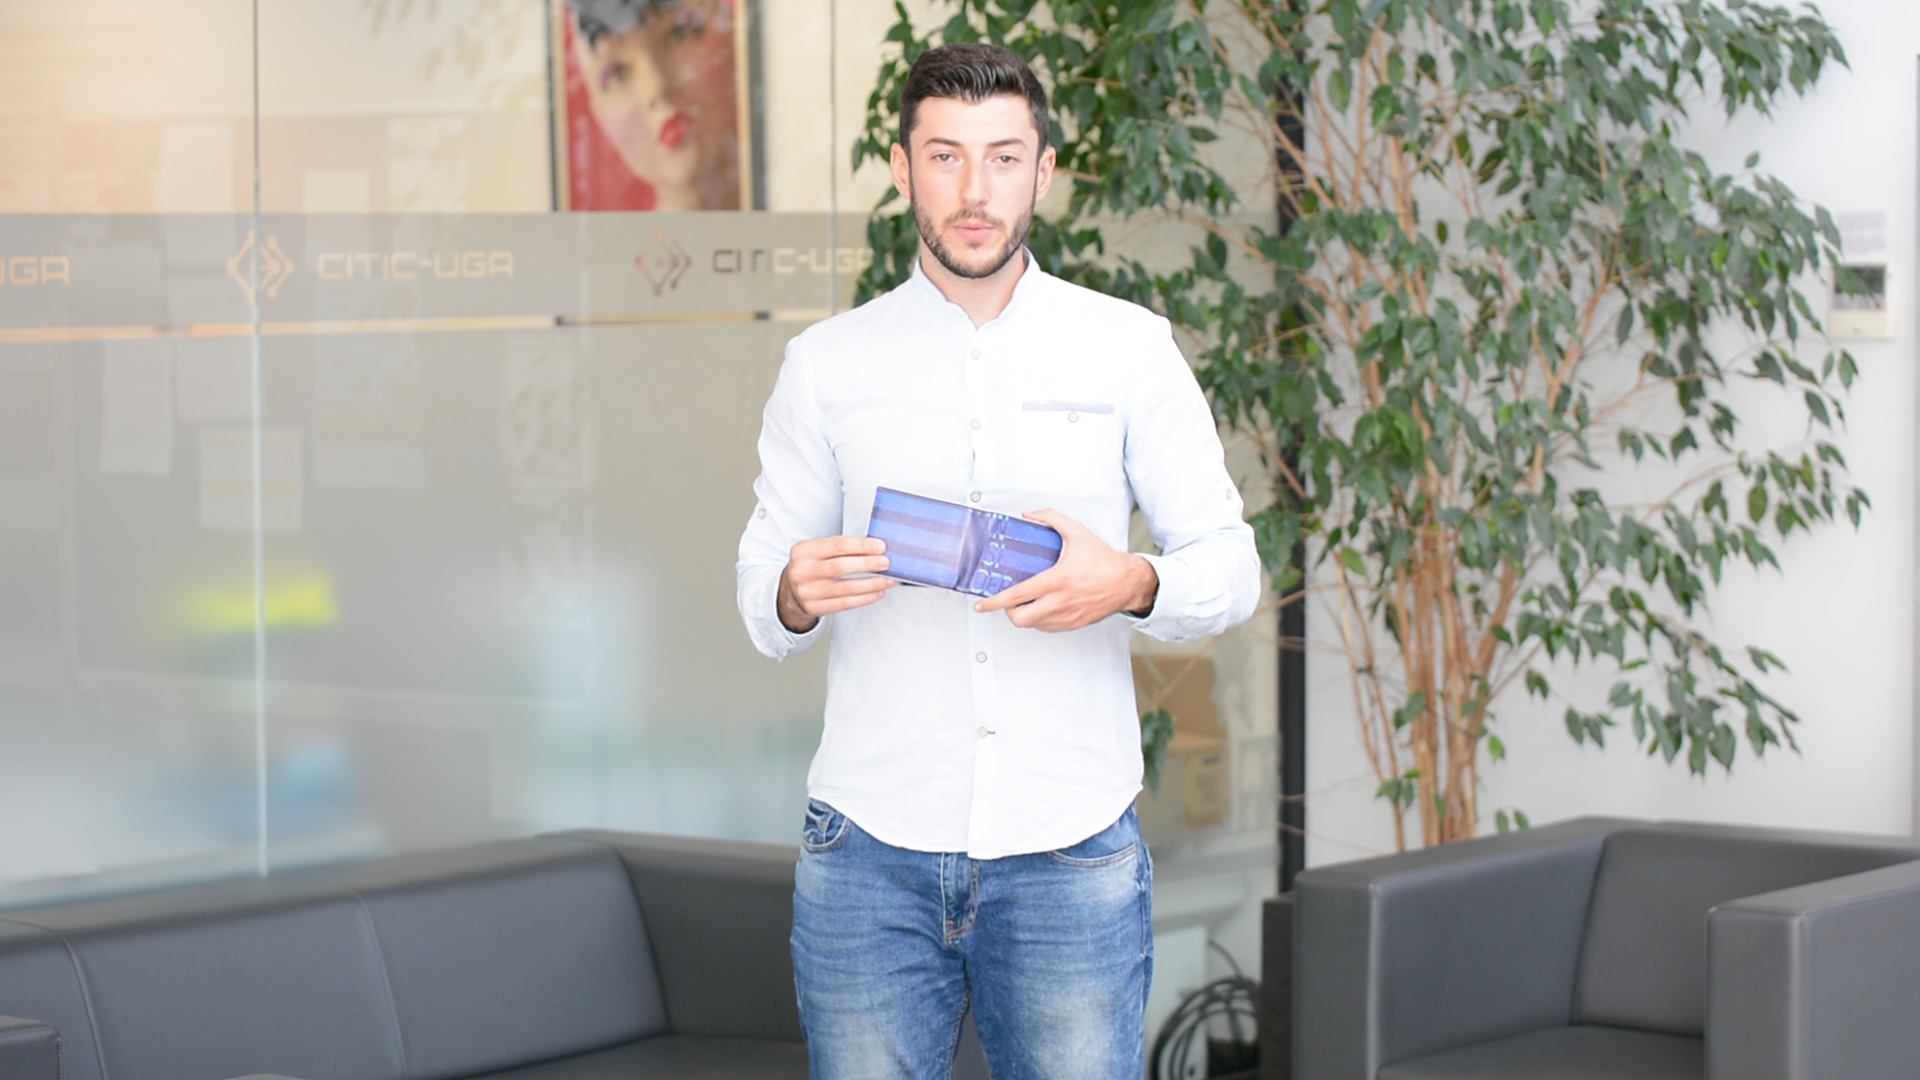monedero: (858, 484, 1069, 609)
